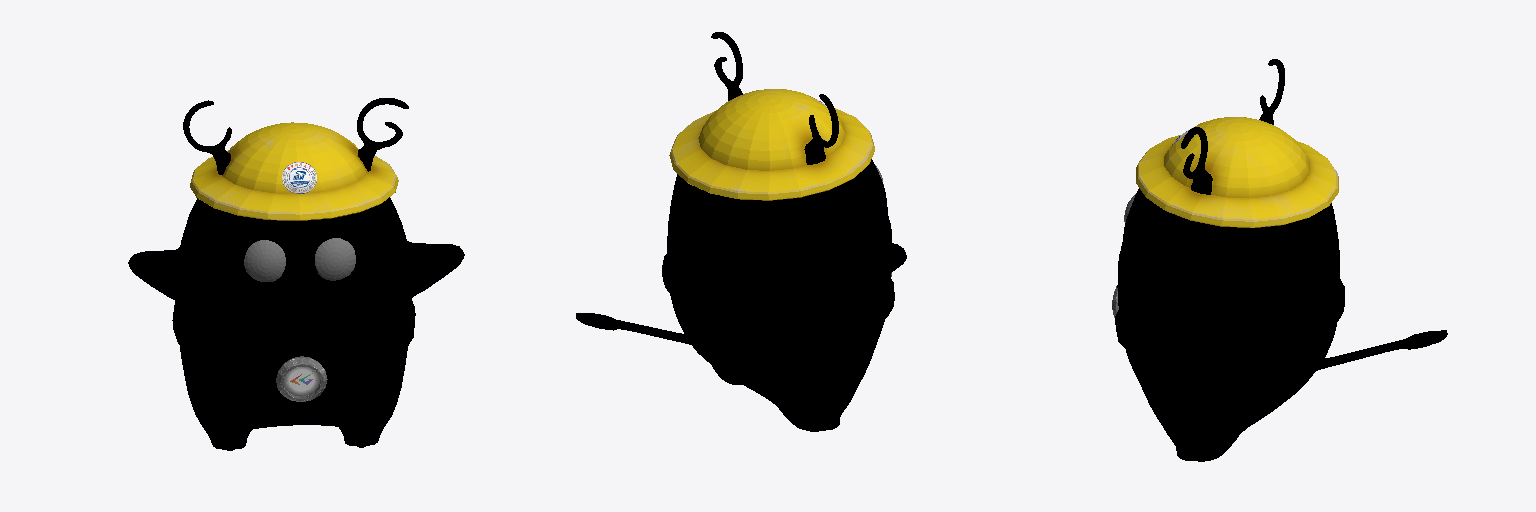
3 views of the same model, side by side, from view 1: azimuth 30°, elevation 25°; view 2: azimuth 150°, elevation 25°; view 3: azimuth 270°, elevation 25° (orthographic).
Visible parts, largest first — view 1: body charactor polySurface1 polySurface3, group1 pasted__charactor pasted__pSphere1 polySurface2 polySurfa, charactor logo polySurface1 polySurface4, charactor eye_right eyes polySurface1 polySurface6, charactor eye_left eyes polySurface1 polySurface5; view 2: body charactor polySurface1 polySurface3, group1 pasted__charactor pasted__pSphere1 polySurface2 polySurfa; view 3: body charactor polySurface1 polySurface3, group1 pasted__charactor pasted__pSphere1 polySurface2 polySurfa.
Part boxes in pixels (x1,y1,x2,y2): body charactor polySurface1 polySurface3: (128, 98, 464, 450); group1 pasted__charactor pasted__pSphere1 polySurface2 polySurfa: (190, 122, 398, 220); charactor logo polySurface1 polySurface4: (276, 356, 327, 401); charactor eye_right eyes polySurface1 polySurface6: (244, 240, 285, 281); charactor eye_left eyes polySurface1 polySurface5: (315, 238, 355, 280); body charactor polySurface1 polySurface3: (576, 32, 906, 431); group1 pasted__charactor pasted__pSphere1 polySurface2 polySurfa: (669, 89, 874, 200); body charactor polySurface1 polySurface3: (1115, 59, 1447, 461); group1 pasted__charactor pasted__pSphere1 polySurface2 polySurfa: (1136, 117, 1338, 227).
Bounding box in the file's own units: 4.17 × 5.16 × 4.59.
4 materials, 2 textured.